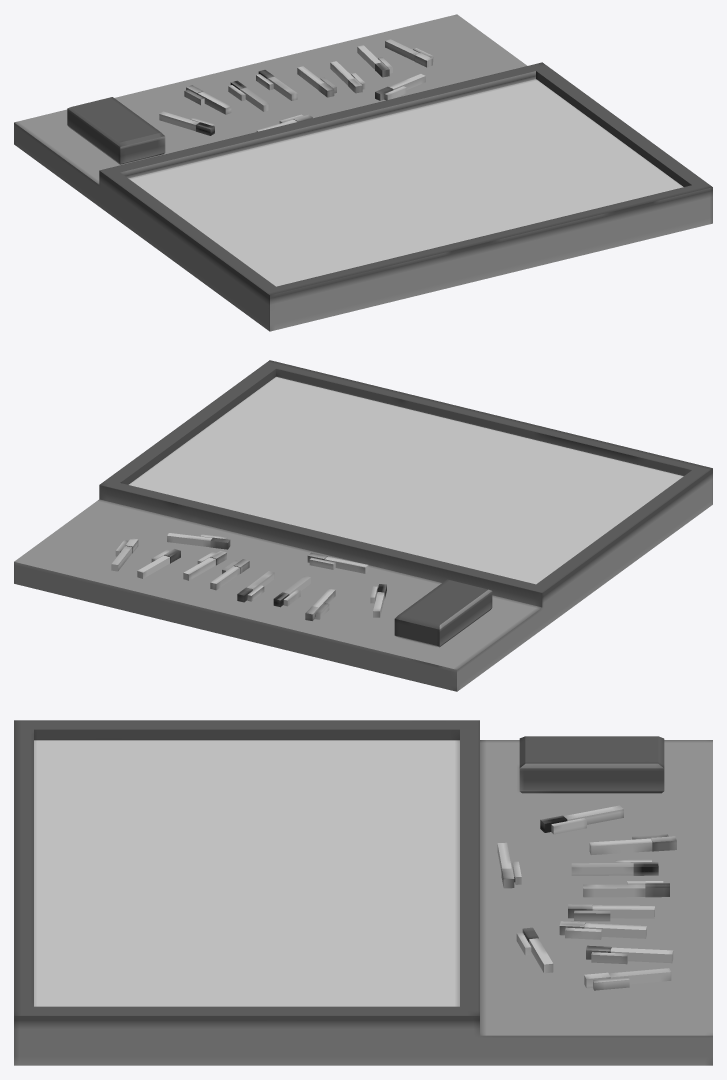
Rendered from Whiteboard_A.fbx.
The picture shows the model from 3 angles, top to bottom: view 1: azimuth 30°, elevation 25°; view 2: azimuth 150°, elevation 25°; view 3: azimuth 270°, elevation 25°; orthographic projection. The views are drawn at different scales.
Parts seen in each view (by area): view 1: Whiteboard_A; view 2: Whiteboard_A; view 3: Whiteboard_A.
Boxes of the visible parts, left/top/right/bottom form: Whiteboard_A: left=14, top=14, right=712, bottom=331; Whiteboard_A: left=14, top=360, right=712, bottom=691; Whiteboard_A: left=14, top=720, right=712, bottom=1065.
Size of the model in its own units: 200 by 18.54 by 200.
